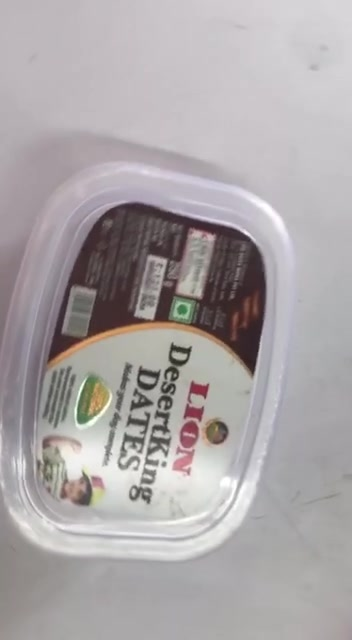Lion dates: (5, 164, 287, 562)
